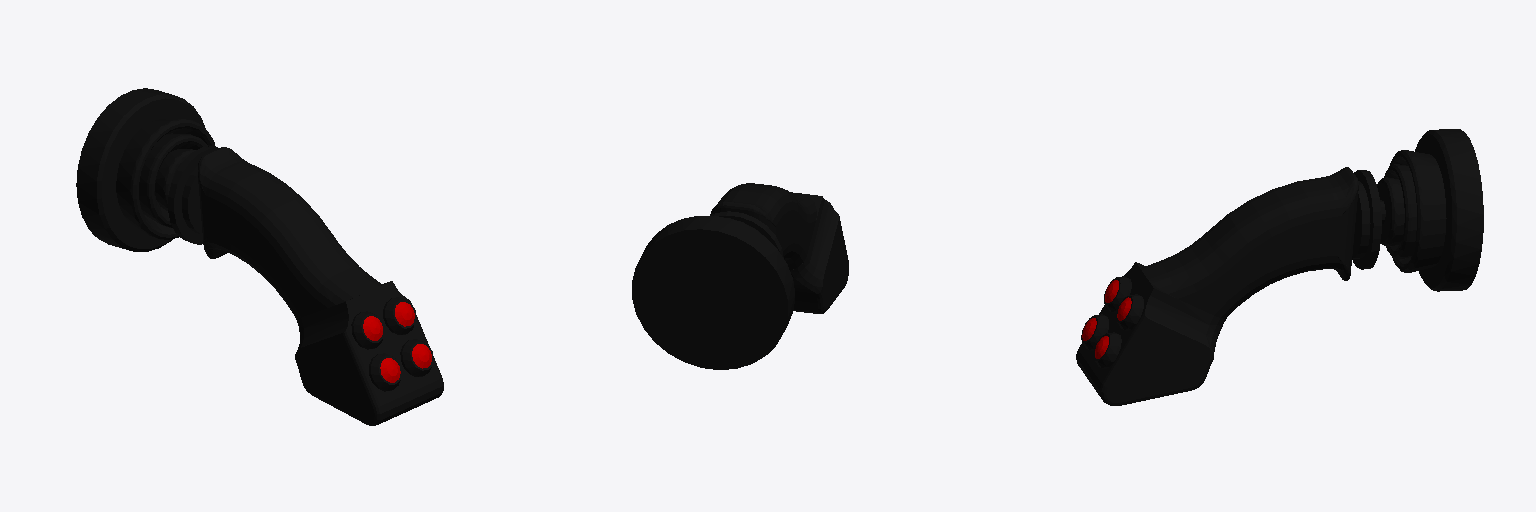
File: Joystick_optimized.obj
3 views of the same model, side by side, from view 1: azimuth 30°, elevation 25°; view 2: azimuth 150°, elevation 25°; view 3: azimuth 270°, elevation 25° (orthographic).
Visible parts, largest first — view 1: Body24; view 2: Body24; view 3: Body24.
Part boxes in pixels (left/top/right/bottom): Body24: left=76, top=88, right=443, bottom=425; Body24: left=632, top=183, right=848, bottom=369; Body24: left=1076, top=129, right=1483, bottom=405.
Size of the model in its own units: 107 by 108 by 189.